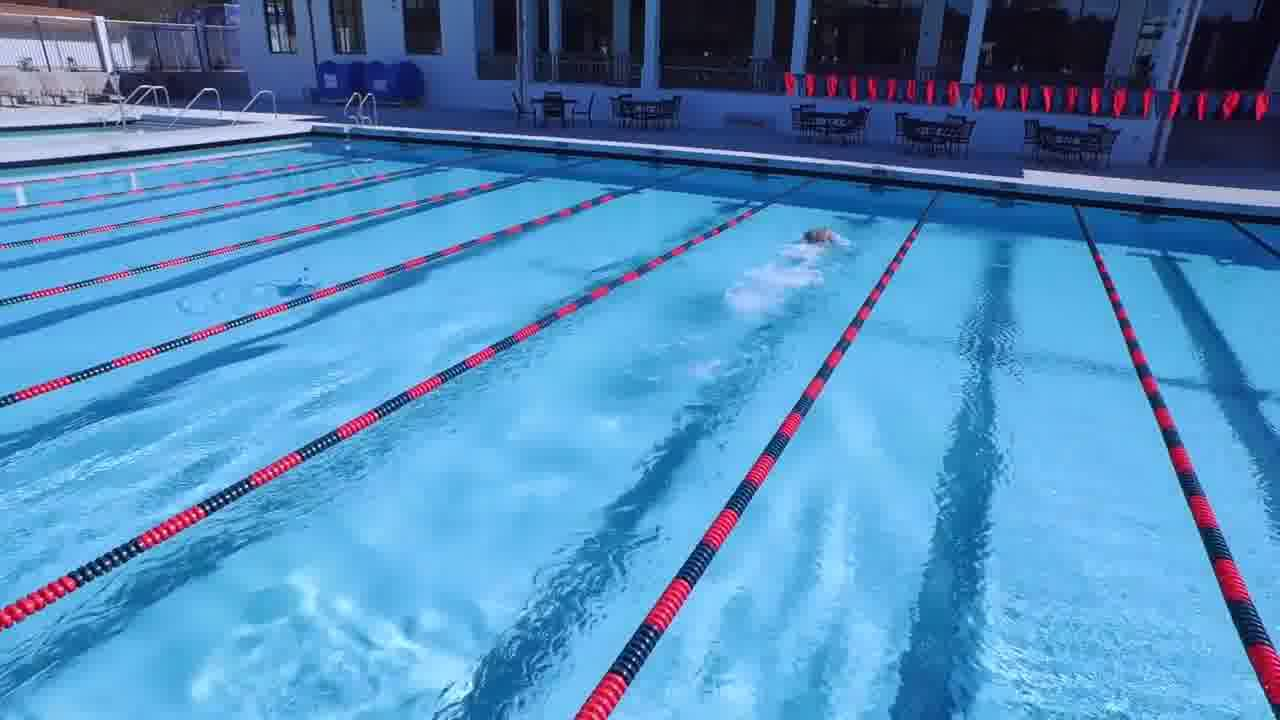swimmer: (783, 210, 847, 254)
